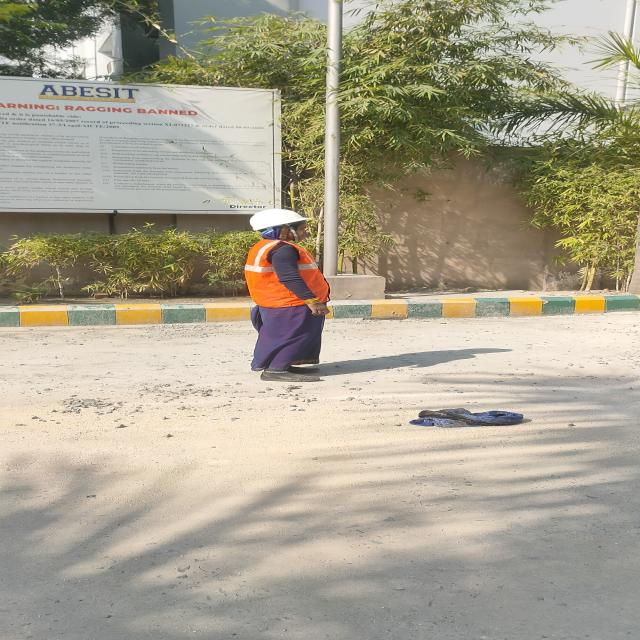safe: (244, 209, 330, 381)
